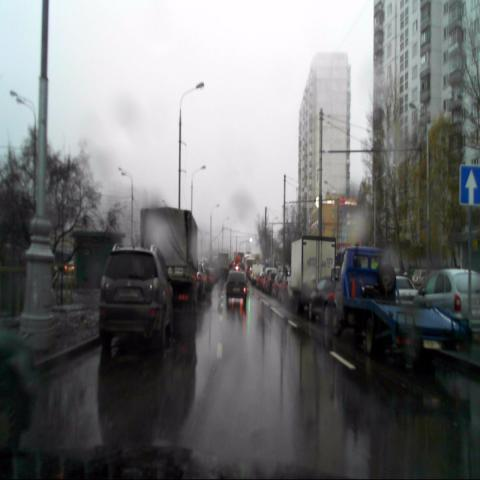5_5: (458, 166, 480, 206)
